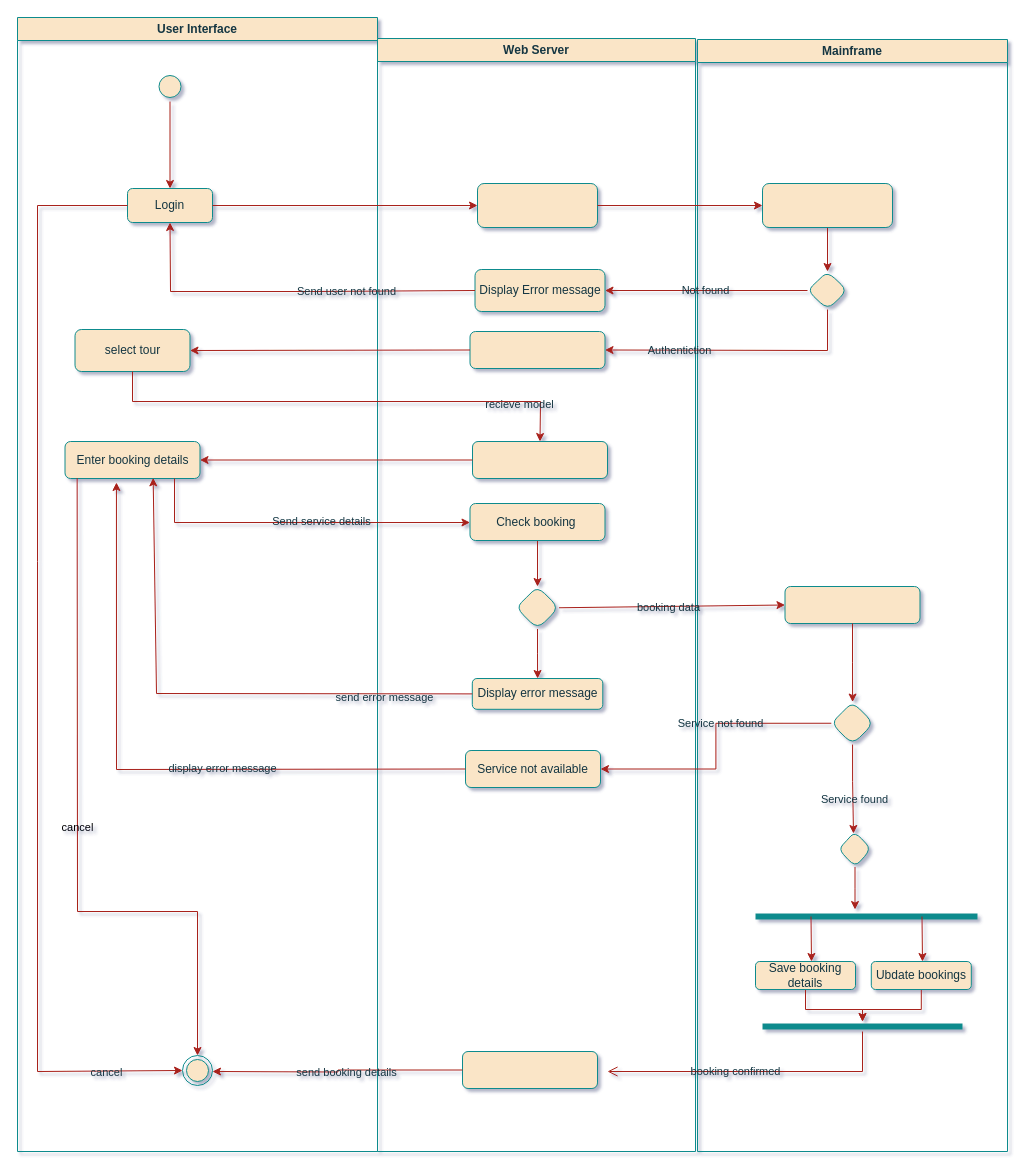
The diagram is 1031 pixels wide and 1175 high, and some of its shapes have lost their labels. Each missing label, with the centre of its shape:
"Check data" belongs at [852,605].
"check login data" belongs at [537,205].
"check user data" belongs at [827,205].
"Display booking confirmed" belongs at [530,1069].
"Display homepage" belongs at [537,349].
"display tour details" belongs at [540,459].
